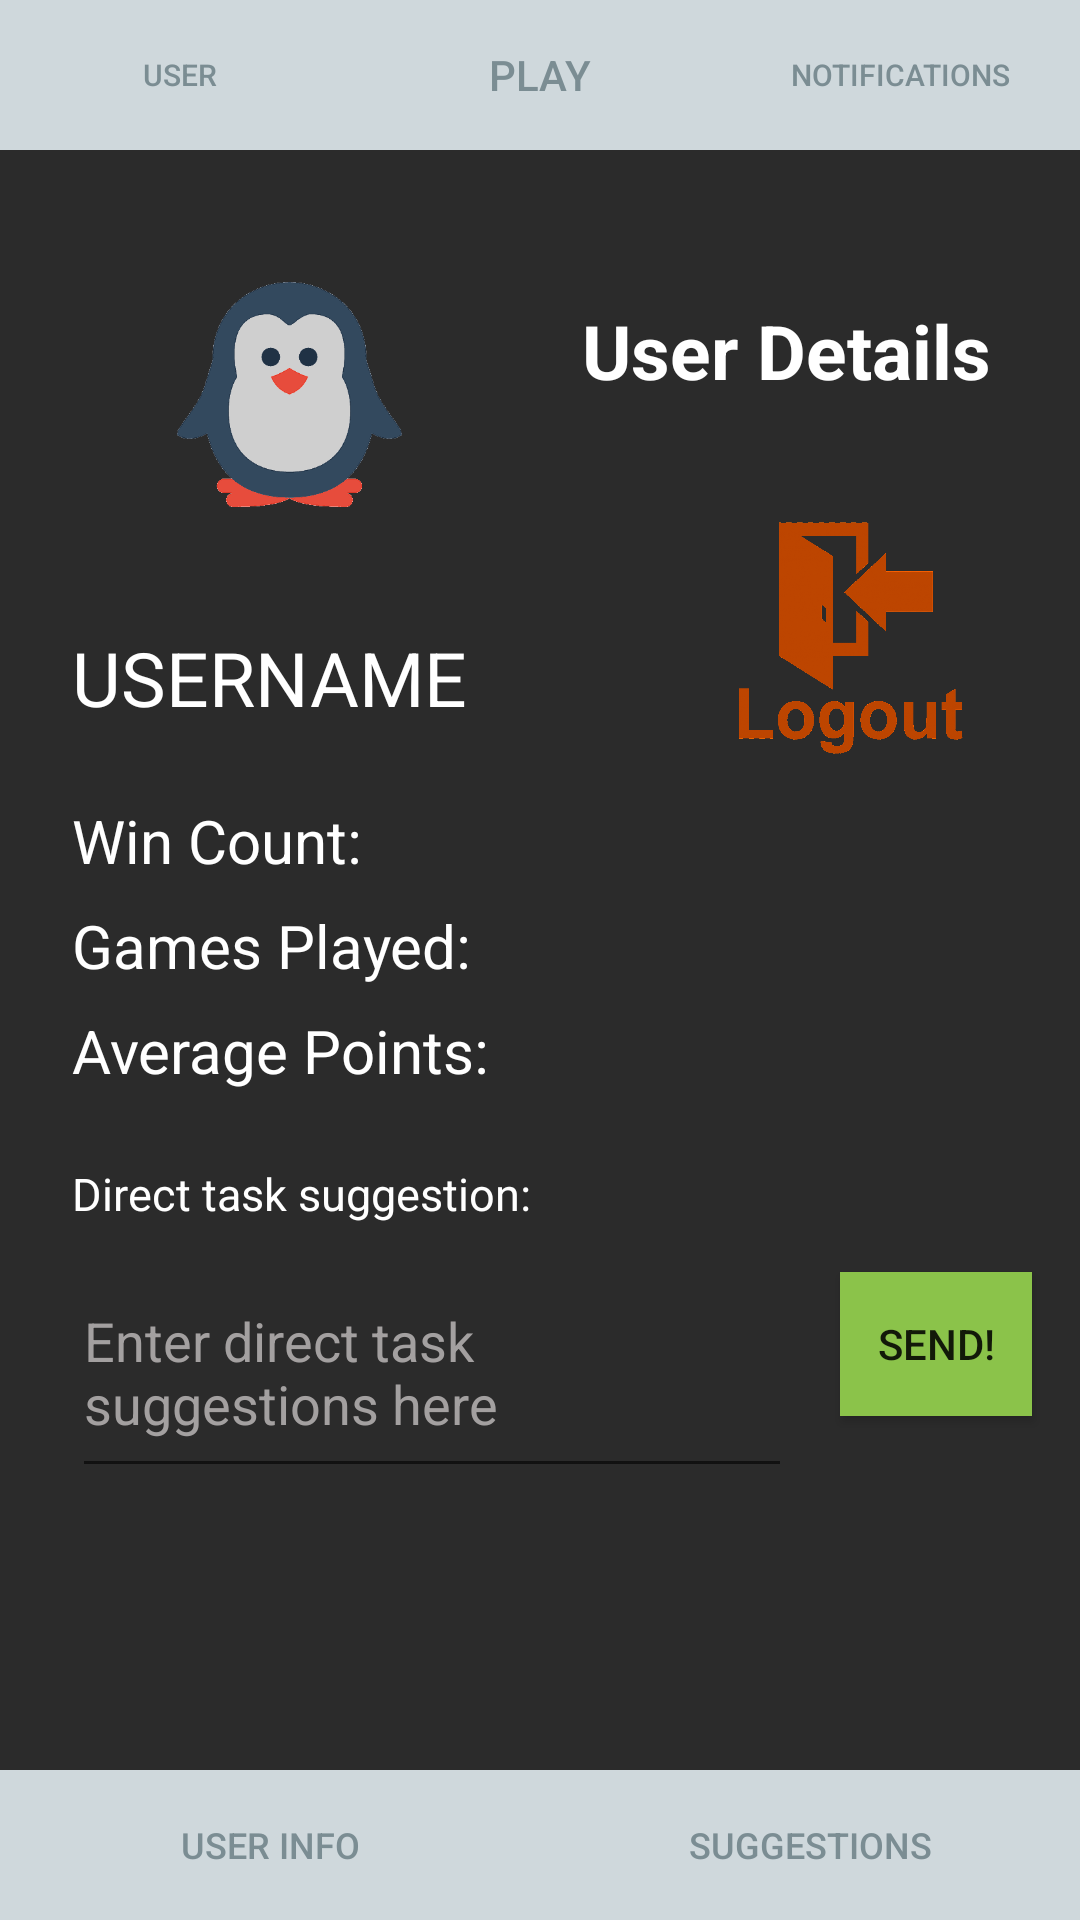

Locate icon controls on the screen. Image size 1080*1920, boxes as (x1, y1, x2, y2).
penguinicon: (177, 282, 402, 507)
